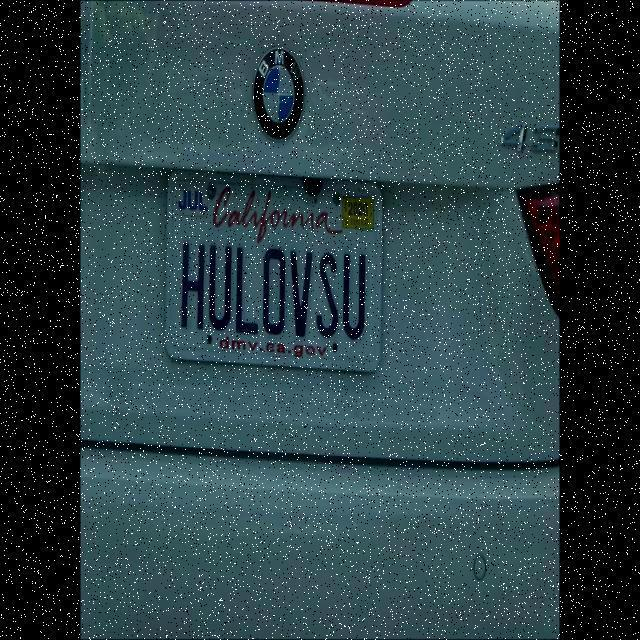LicensePlate: (170, 174, 382, 374)
